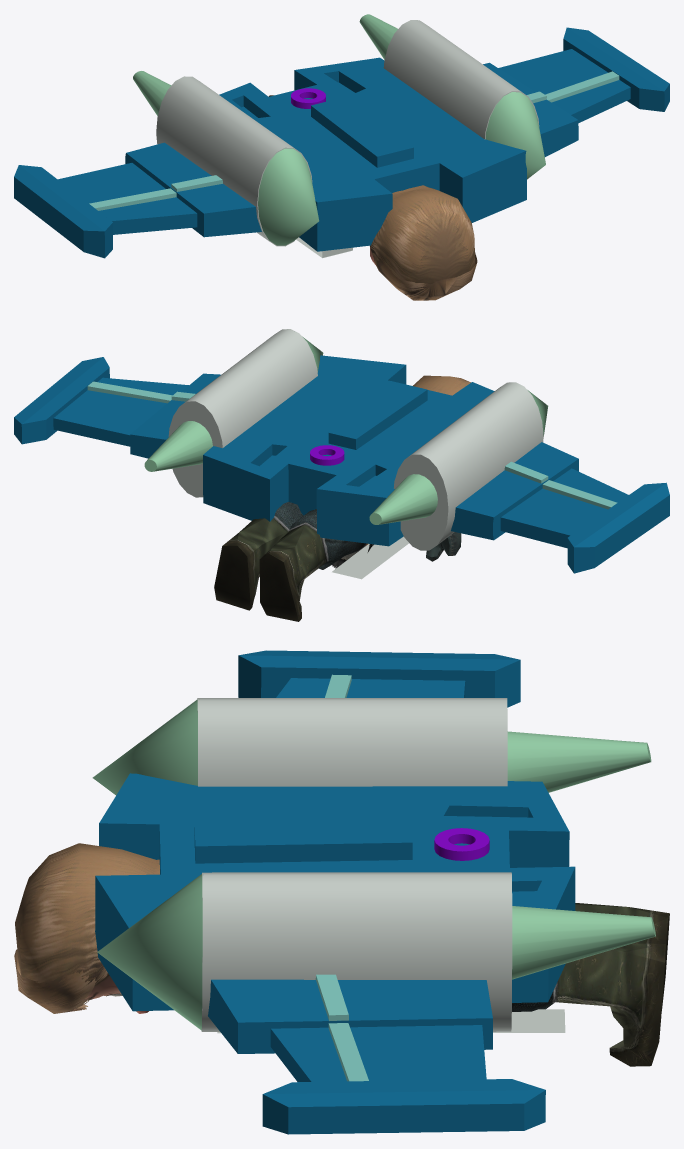
File: jet.fbx
3 views of the same model, one above another, from view 1: azimuth 30°, elevation 25°; view 2: azimuth 150°, elevation 25°; view 3: azimuth 270°, elevation 25° (orthographic). The views are drawn at different scales.
Parts seen in each view (by area): view 1: polySurface61, turbina2, turbina1, personaje:pasted__Mesh, personaje:pasted__Mesh1, polySurface64, polySurface60, polySurface59, polySurface63; view 2: polySurface61, turbina2, turbina1, personaje:pasted__Mesh, brazo_der, polySurface60, polySurface64, polySurface59, polySurface63; view 3: polySurface61, turbina1, turbina2, personaje:pasted__Mesh, personaje:pasted__Mesh1, polySurface59, polySurface60, brazo_izq, polySurface62.
Part boxes in pixels (bbox=[...]): polySurface61: bbox=[14, 27, 669, 258]; turbina2: bbox=[133, 71, 319, 246]; turbina1: bbox=[359, 14, 545, 179]; personaje:pasted__Mesh: bbox=[268, 95, 475, 284]; personaje:pasted__Mesh1: bbox=[374, 252, 477, 300]; polySurface64: bbox=[89, 188, 176, 210]; polySurface60: bbox=[545, 71, 619, 102]; polySurface59: bbox=[291, 88, 325, 108]; polySurface63: bbox=[171, 175, 222, 191]; polySurface61: bbox=[14, 355, 669, 573]; turbina2: bbox=[369, 382, 548, 550]; turbina1: bbox=[144, 329, 323, 497]; personaje:pasted__Mesh: bbox=[214, 375, 470, 621]; brazo_der: bbox=[332, 536, 408, 579]; polySurface60: bbox=[87, 381, 172, 403]; polySurface64: bbox=[542, 480, 617, 509]; polySurface59: bbox=[310, 445, 344, 465]; polySurface63: bbox=[504, 461, 548, 483]; polySurface61: bbox=[95, 650, 575, 1134]; turbina1: bbox=[97, 872, 655, 1031]; turbina2: bbox=[92, 698, 651, 795]; personaje:pasted__Mesh: bbox=[15, 843, 669, 1066]; personaje:pasted__Mesh1: bbox=[14, 949, 96, 1013]; polySurface59: bbox=[434, 828, 489, 860]; polySurface60: bbox=[328, 1023, 368, 1081]; brazo_izq: bbox=[217, 1009, 565, 1033]; polySurface62: bbox=[315, 974, 348, 1020].
Size of the model in its own units: 15.17 by 3.93 by 9.3.
